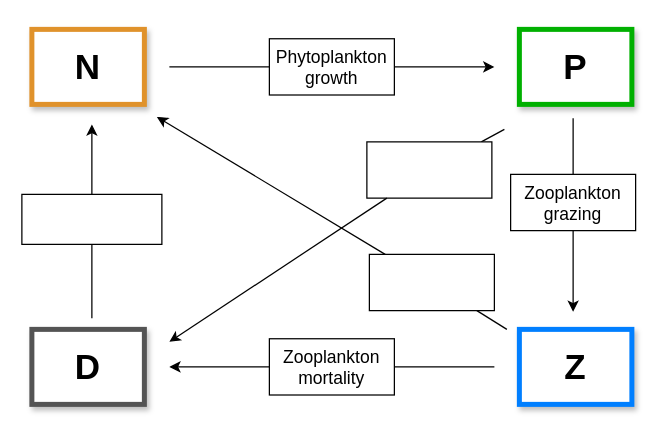
The diagram is 664 pixels wide and 436 high, and some of its shapes have lost their labels. The centre of each missing label's shape, as x and y in pixels:
"Phytoplakton mortality" goes at (429,169).
"Remineralization" goes at (91,218).
"Zooplankton loss rate" goes at (431,282).
